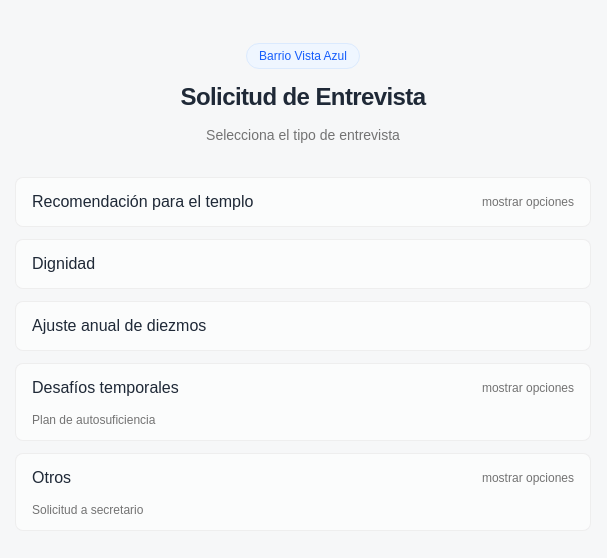
Test: Home Page › Expandable Options › expands Recomendación para el templo when clicked
The width and height of the screenshot is (607, 558).
Click the button "Recomendación para el templo": (143,202) [16, 178, 590, 226]
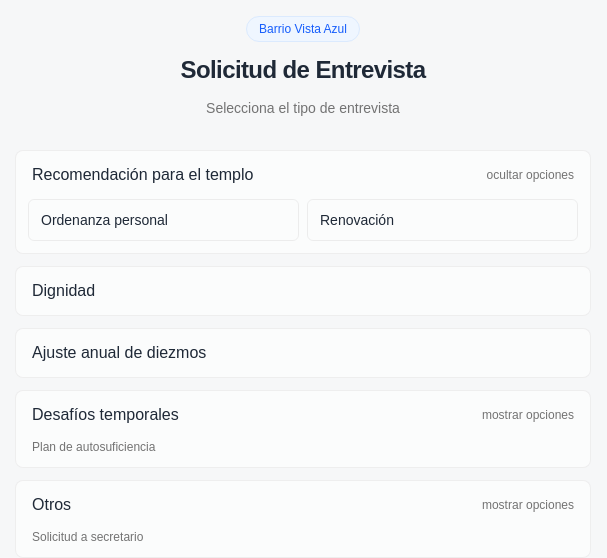
Check: the text "Ordenanza personal" is shown, box [41, 212, 168, 228]
Check: the text "Renovación" is shown, box [320, 212, 394, 228]
